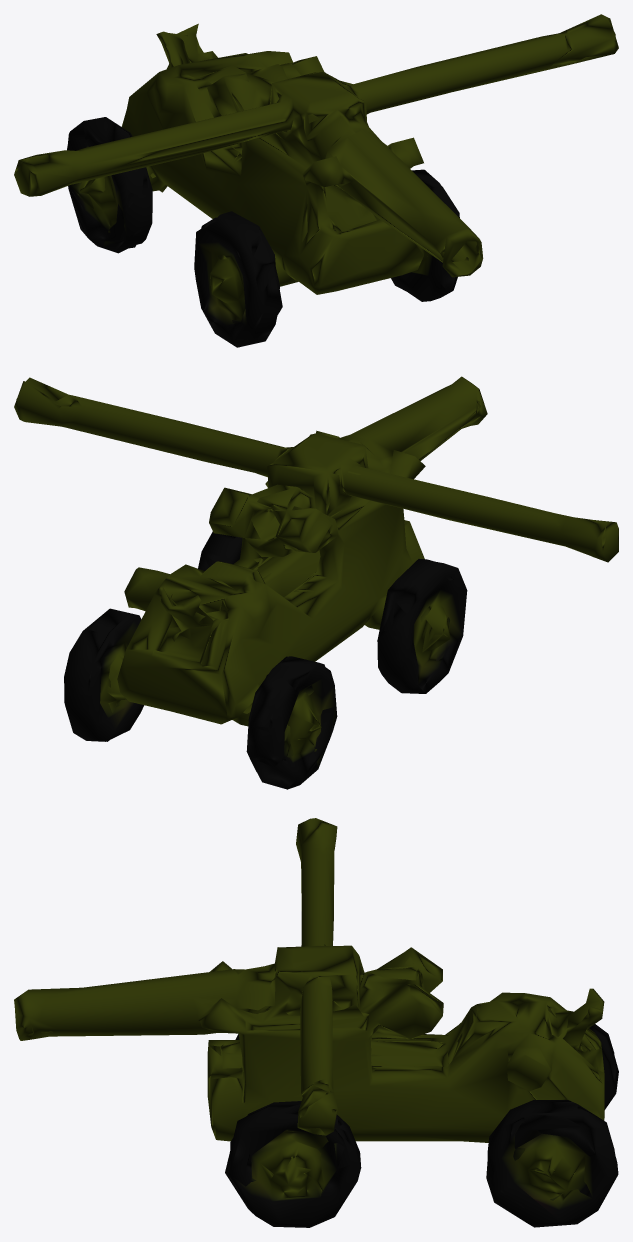
The model's file is gen3d-howitzer-lod0.glb.
3 views of the same model, one above another, from view 1: azimuth 30°, elevation 25°; view 2: azimuth 150°, elevation 25°; view 3: azimuth 270°, elevation 25° (orthographic).
Parts seen in each view (by area): view 1: part_0; view 2: part_0; view 3: part_0.
Boxes of the visible parts, x1=… form: part_0: x1=14, y1=14, x2=618, y2=347; part_0: x1=14, y1=376, x2=618, y2=789; part_0: x1=14, y1=818, x2=618, y2=1227.
Size of the model in its own units: 2.75 by 0.9942 by 2.45.
